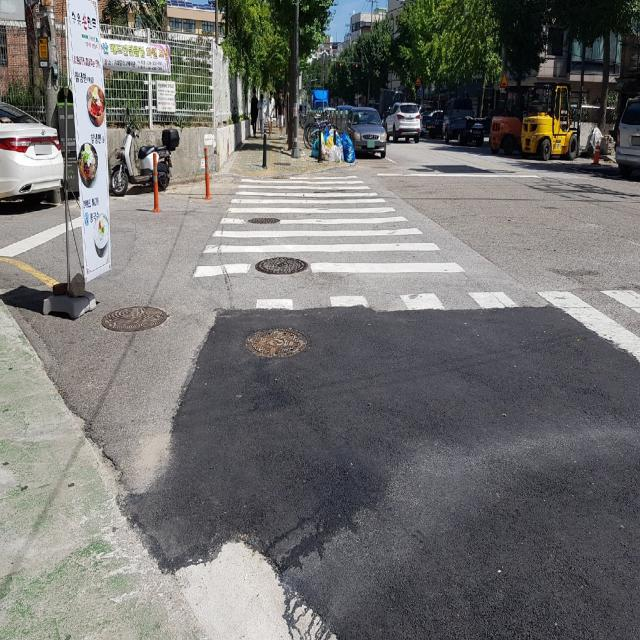횡단보도: (192, 173, 466, 281)
